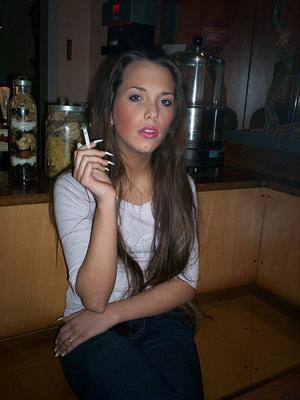person: (54, 42, 206, 398)
